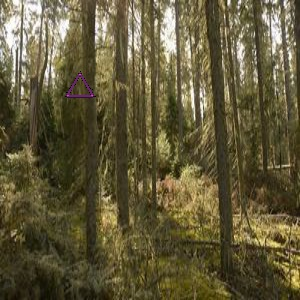triangle: (62, 70, 95, 99)
